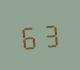six: (19, 21, 39, 50)
three: (40, 20, 60, 48)
